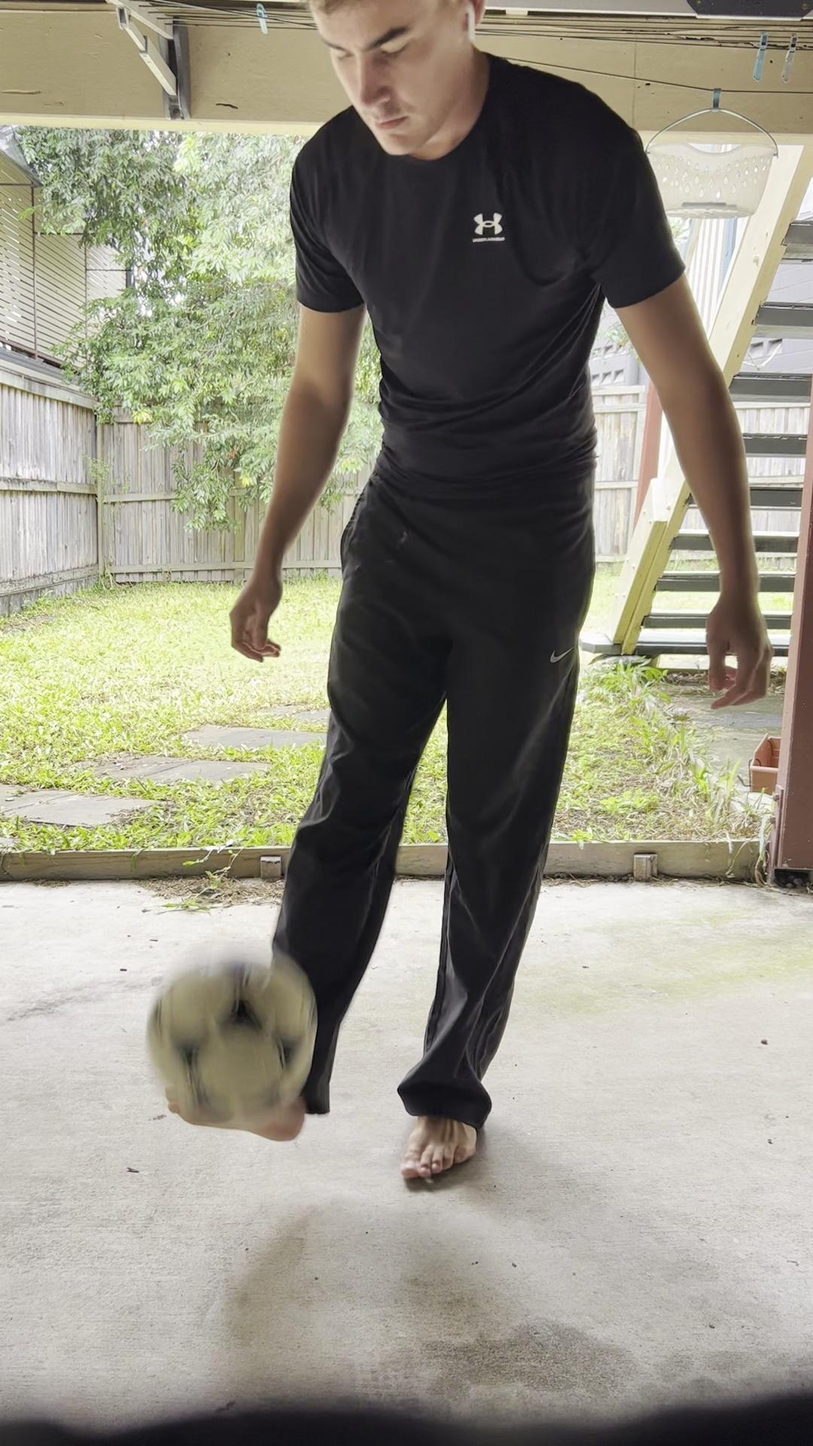ball: (146, 956, 317, 1125)
foot: (402, 1109, 478, 1185)
person: (229, 0, 772, 1186)
